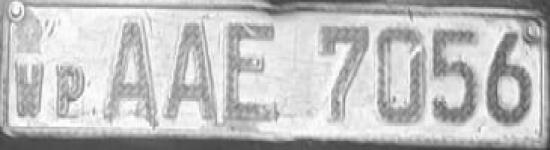0: (374, 13, 431, 128)
5: (429, 18, 483, 135)
6: (481, 22, 536, 132)
7: (312, 16, 374, 126)
A: (102, 11, 163, 128), (163, 11, 221, 130)
E: (222, 11, 284, 134)
P: (50, 60, 95, 122)
W: (11, 60, 49, 119)
